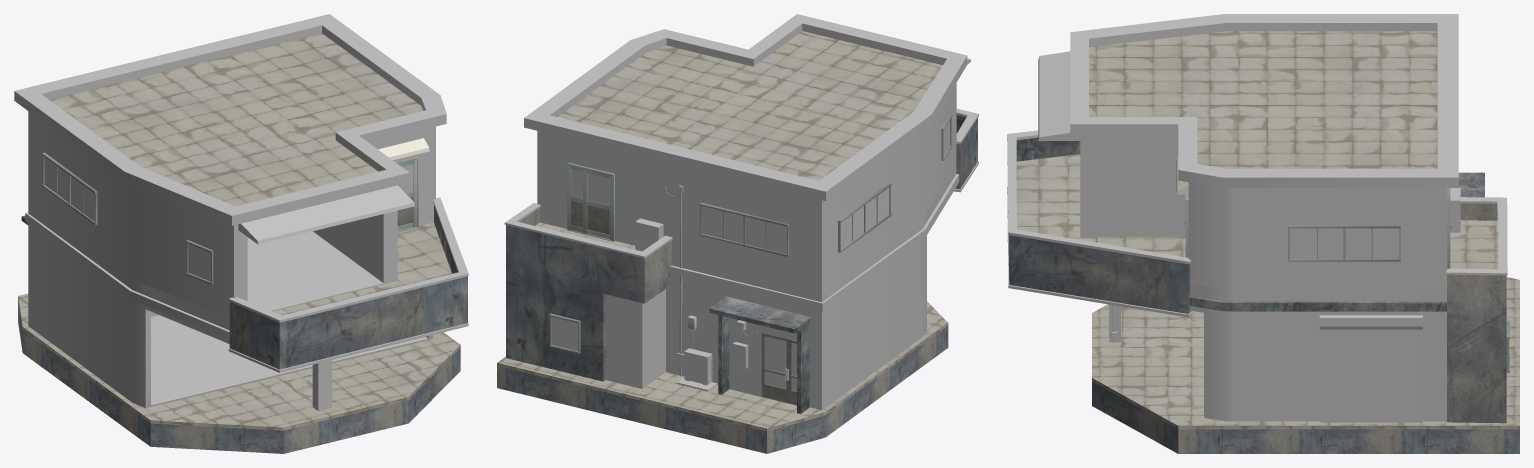
File: ms_kado_d_in.fbx
3 views of the same model, side by side, from view 1: azimuth 30°, elevation 25°; view 2: azimuth 150°, elevation 25°; view 3: azimuth 270°, elevation 25° (orthographic). The views are drawn at different scales.
Visible parts, largest first — view 1: ms_kado_d_in; view 2: ms_kado_d_in; view 3: ms_kado_d_in.
Boxes of the visible parts, <box> form: ms_kado_d_in: <box>14,14,468,453</box>; ms_kado_d_in: <box>497,14,978,453</box>; ms_kado_d_in: <box>1007,14,1519,453</box>.
Size of the model in its own units: 1236 by 976 by 1638.
